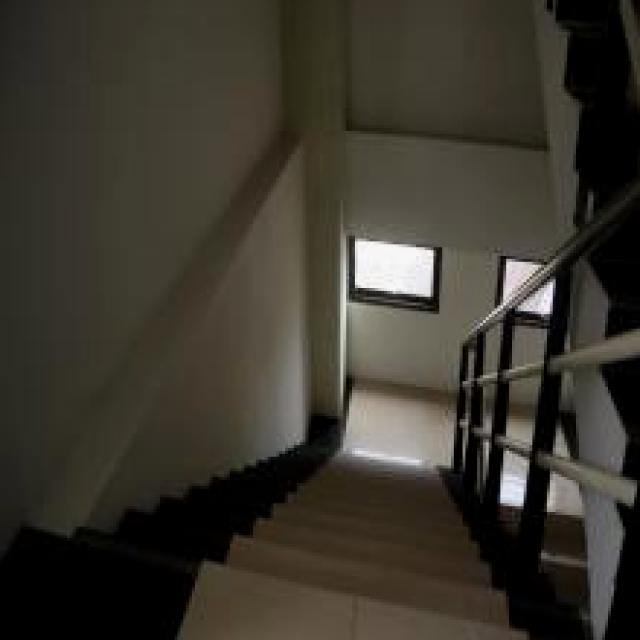downstair: (245, 463, 445, 640)
